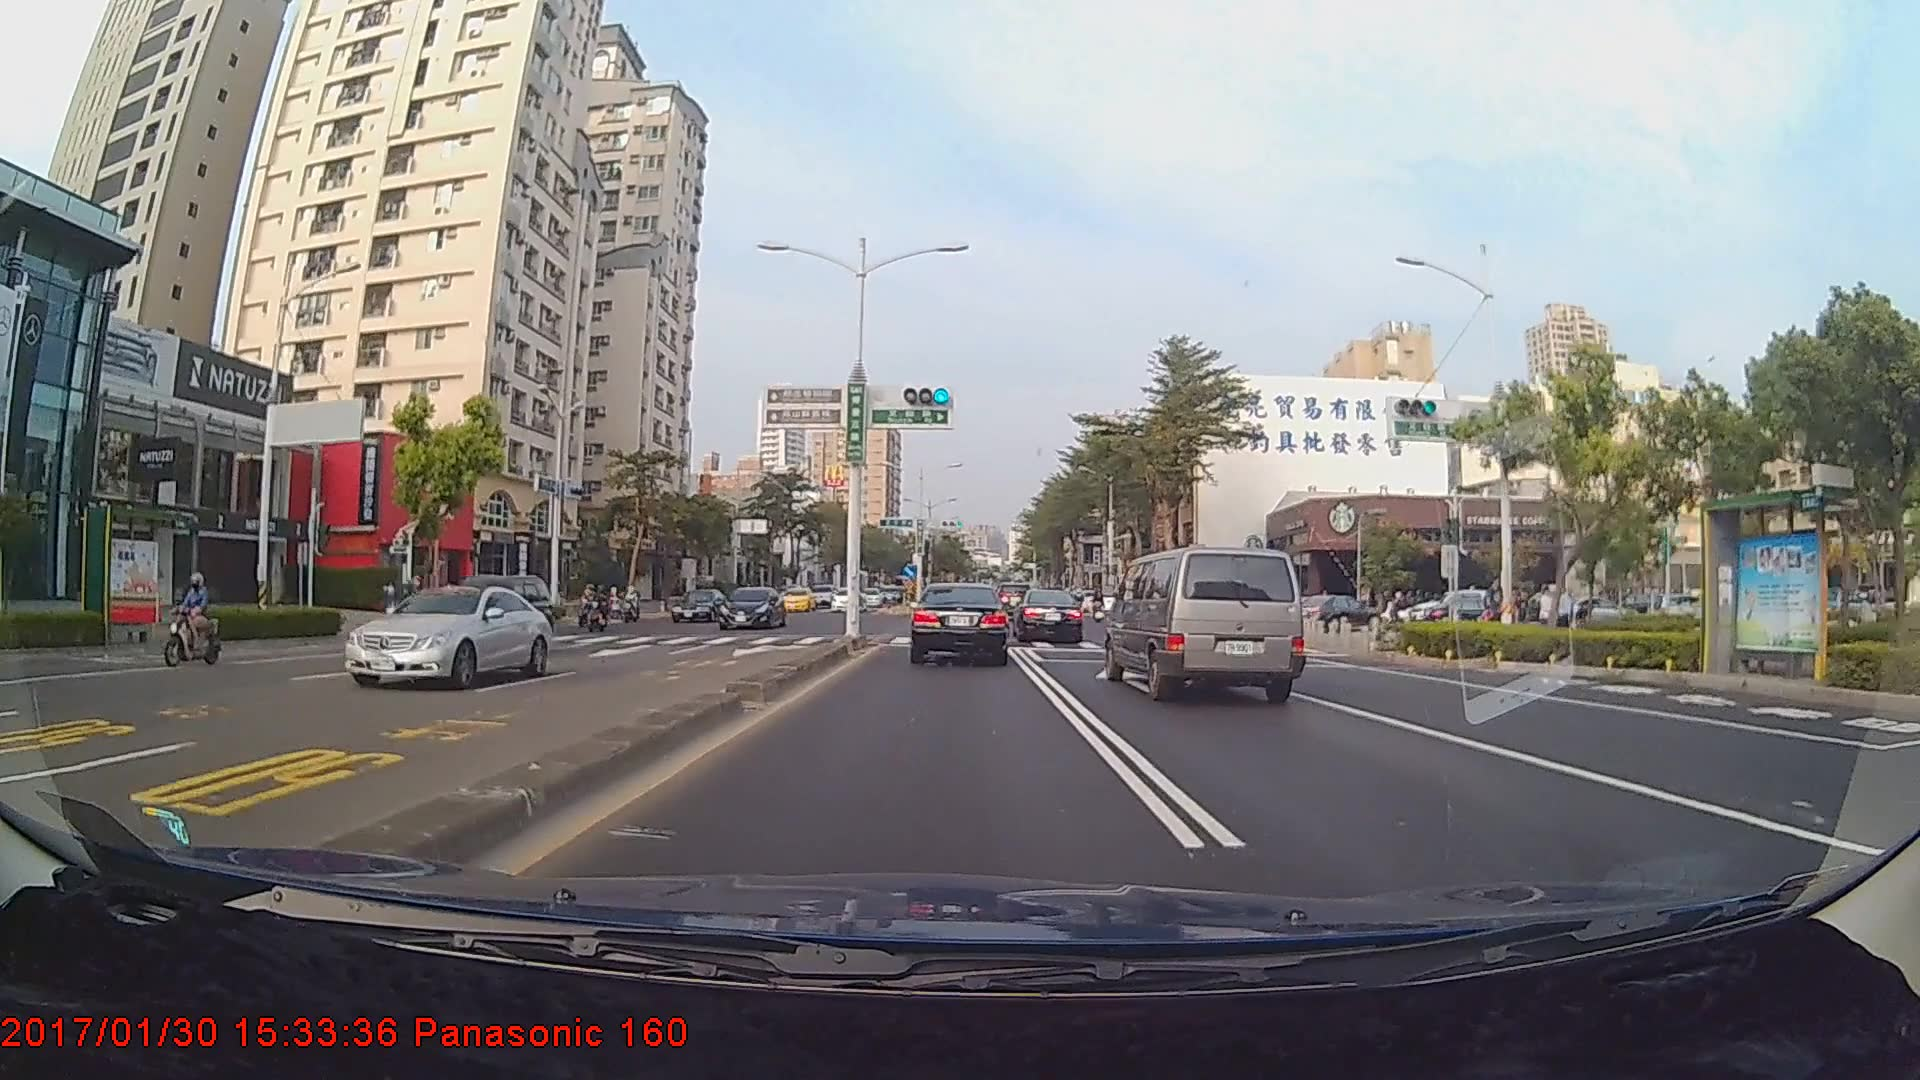pedestrian: (1556, 586, 1577, 647), (1537, 586, 1558, 638)
rider: (149, 572, 224, 669), (388, 575, 437, 646)
vehicle: (1104, 543, 1310, 702), (341, 584, 556, 689), (430, 576, 552, 659), (910, 581, 1009, 665), (1014, 589, 1084, 644), (716, 585, 787, 632), (670, 590, 730, 623), (829, 588, 870, 613)
